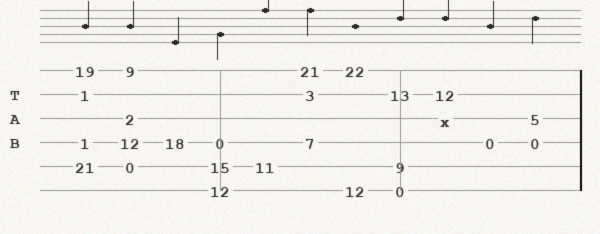0: (125, 159, 139, 173), (215, 135, 229, 149), (395, 183, 409, 197), (485, 135, 499, 149), (530, 135, 544, 149)
1: (80, 135, 94, 149), (80, 87, 94, 101)
11: (255, 159, 279, 173)
12: (120, 135, 144, 149), (210, 183, 234, 197), (345, 183, 369, 197), (435, 87, 459, 101)
13: (390, 87, 414, 101)
15: (210, 159, 234, 173)
18: (165, 135, 189, 149)
19: (75, 63, 99, 77)
2: (125, 111, 139, 125)
21: (75, 159, 99, 173), (300, 63, 324, 77)
22: (345, 63, 369, 77)
3: (305, 87, 319, 101)
5: (530, 111, 544, 125)
7: (305, 135, 319, 149)
9: (125, 63, 139, 77), (395, 159, 409, 173)
x: (440, 113, 454, 124)
